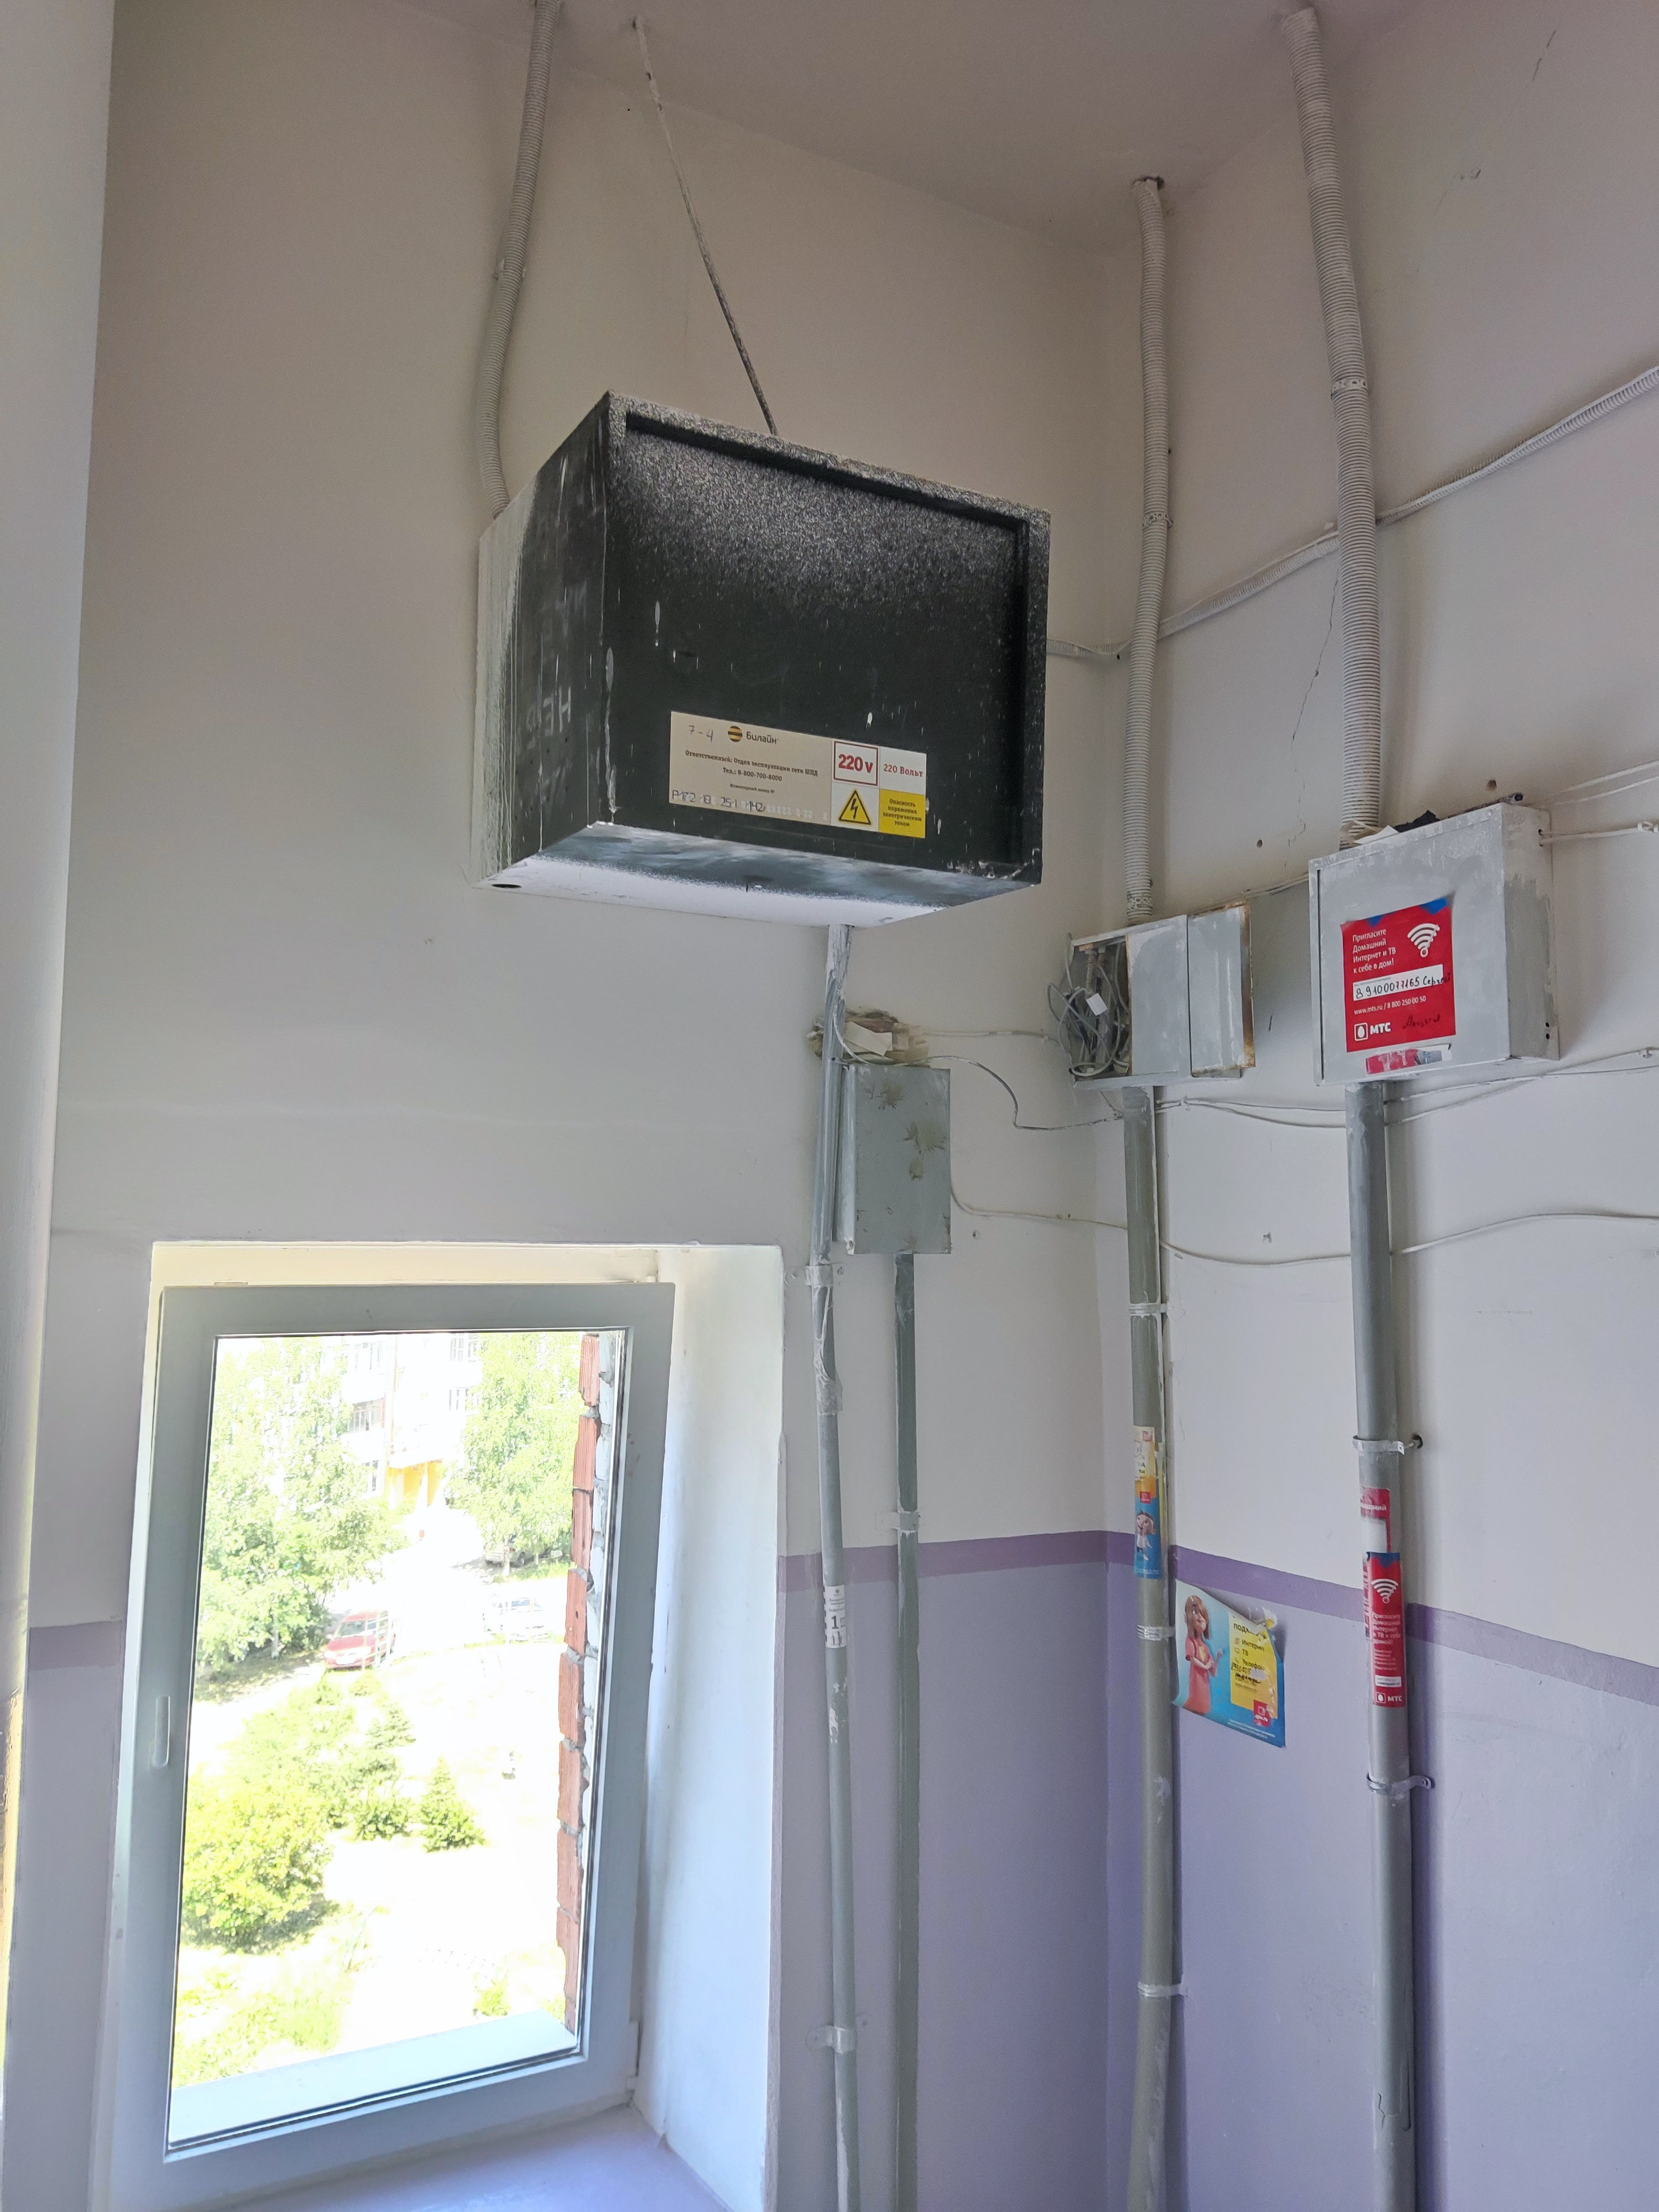shta-9m: (464, 383, 1049, 939)
